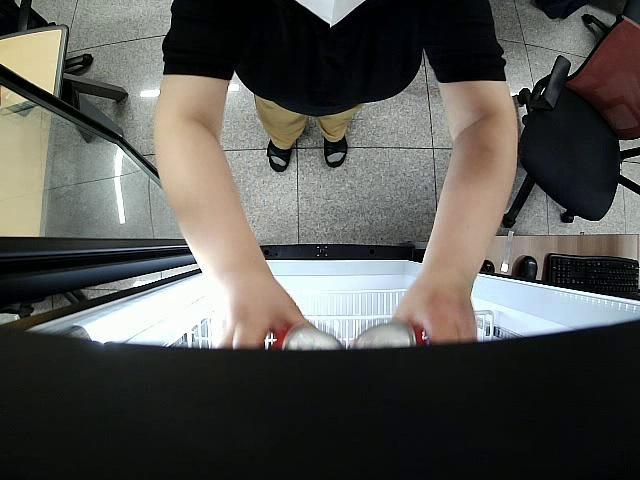11_cocaColaZero: (353, 323, 428, 351), (268, 325, 344, 350)
